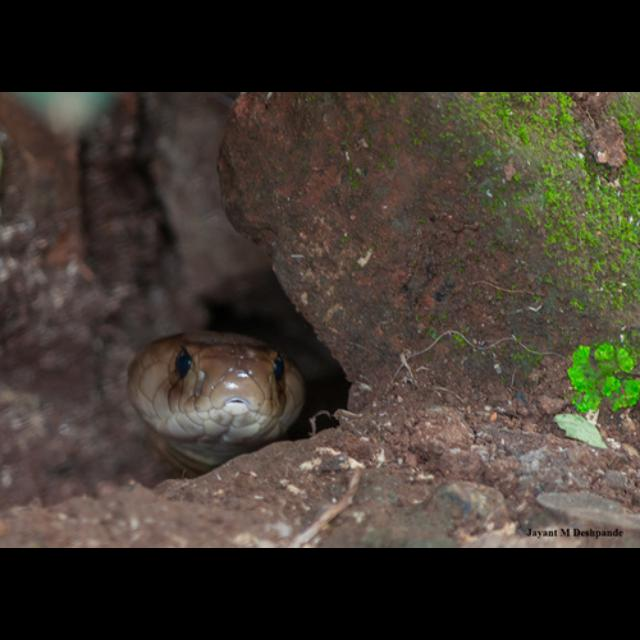snake: (113, 332, 315, 483)
